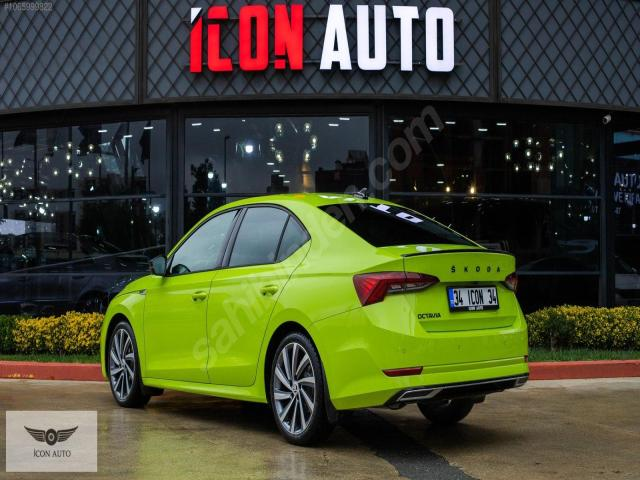plaka: (448, 285, 499, 311)
